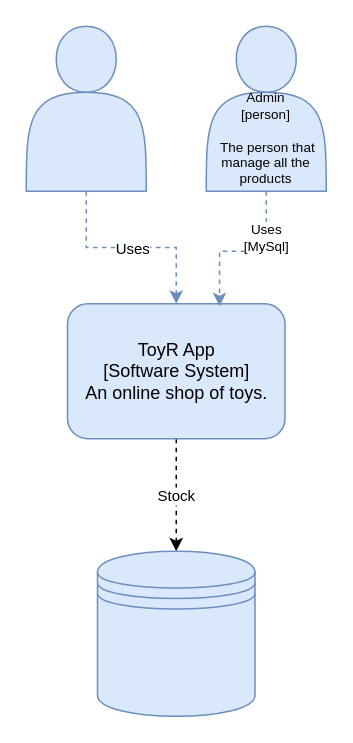
Image size: 353x743. Some labels were removed from this diagram. The centre of each missing label's shape, as x and y in pixels:
"Database [Software System]" goes at (x=175, y=633).
"User [person] Any person who wants to buy a toy." goes at (x=85, y=108).
